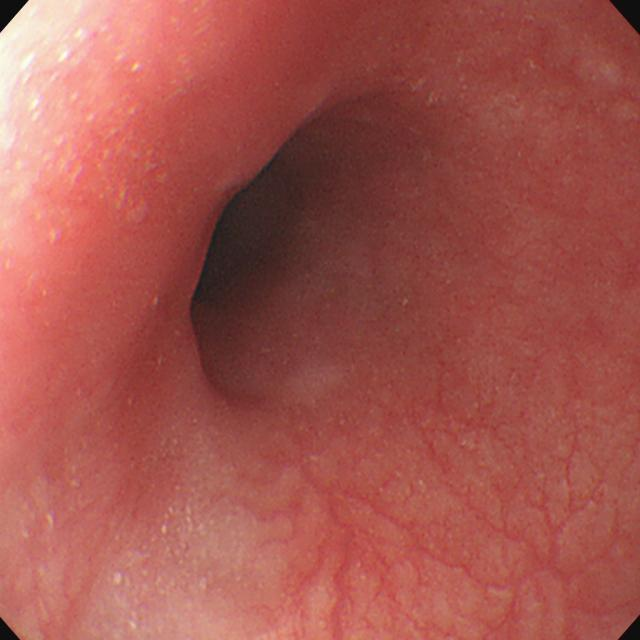E: (182, 137, 327, 323)
